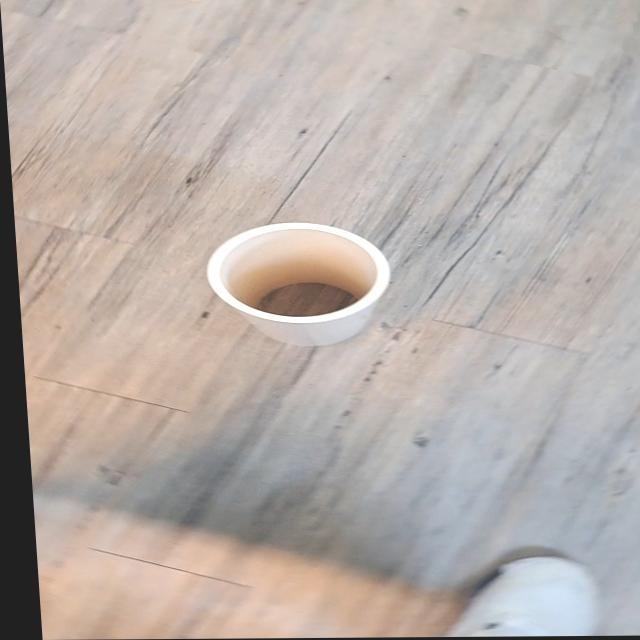CORAL: (168, 198, 423, 351)
